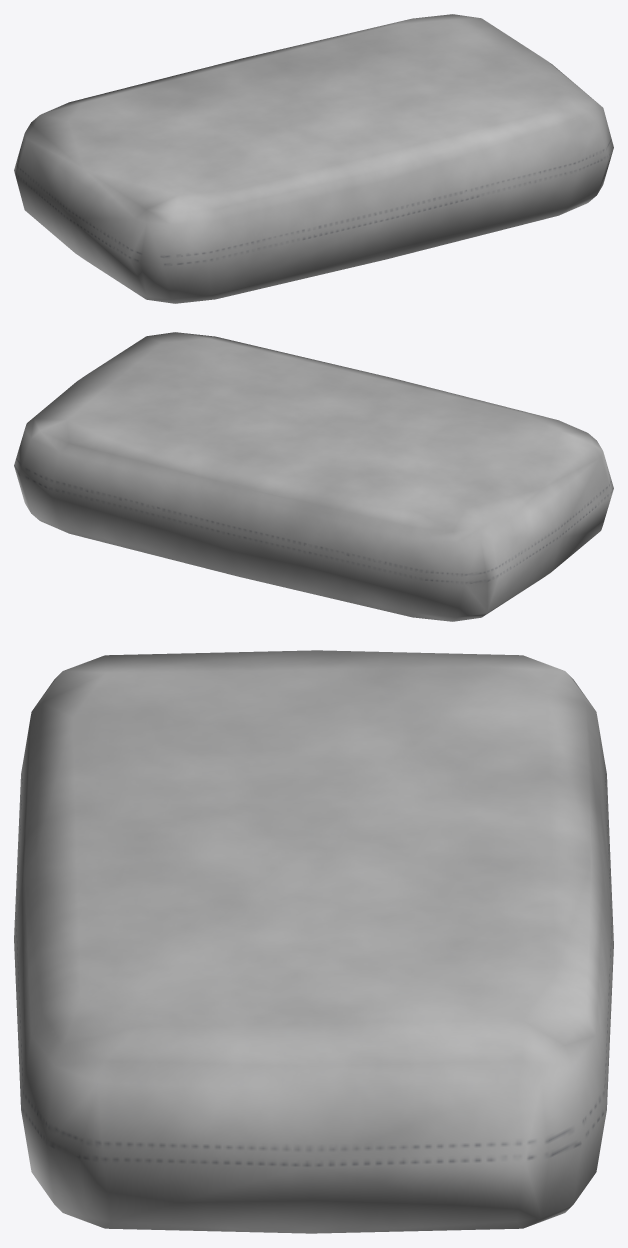
File: LowerTorso_C1.fbx
3 renders of one model, top to bottom at view 1: azimuth 30°, elevation 25°; view 2: azimuth 150°, elevation 25°; view 3: azimuth 270°, elevation 25°, orthographic. The views are drawn at different scales.
Parts seen in each view (by area): view 1: Civ_PantalonVestir_LowerTorso_C1; view 2: Civ_PantalonVestir_LowerTorso_C1; view 3: Civ_PantalonVestir_LowerTorso_C1.
Boxes of the visible parts, x1=… form: Civ_PantalonVestir_LowerTorso_C1: x1=14, y1=14, x2=613, y2=303; Civ_PantalonVestir_LowerTorso_C1: x1=14, y1=332, x2=613, y2=621; Civ_PantalonVestir_LowerTorso_C1: x1=14, y1=650, x2=613, y2=1233.
Size of the model in its own units: 2.28 by 0.4721 by 1.29.
